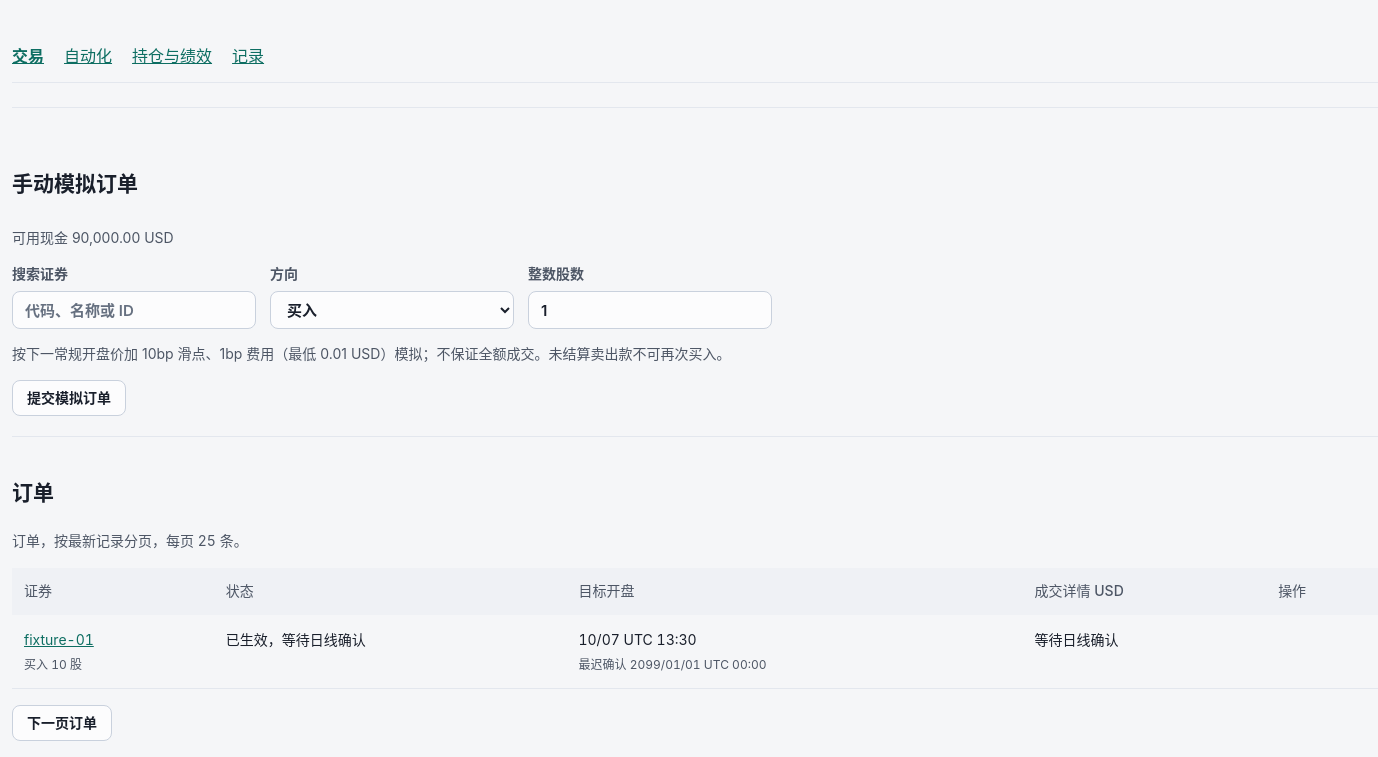
Test: paged tables walk back to the previous page
This screenshot has width=1378, height=757.
(page scrolled)
Check: the link "fixture-01" is shown, box [24,631,94,648]
Click the button "下一页订单". click: click(62, 723)
box: [12,705,112,741]
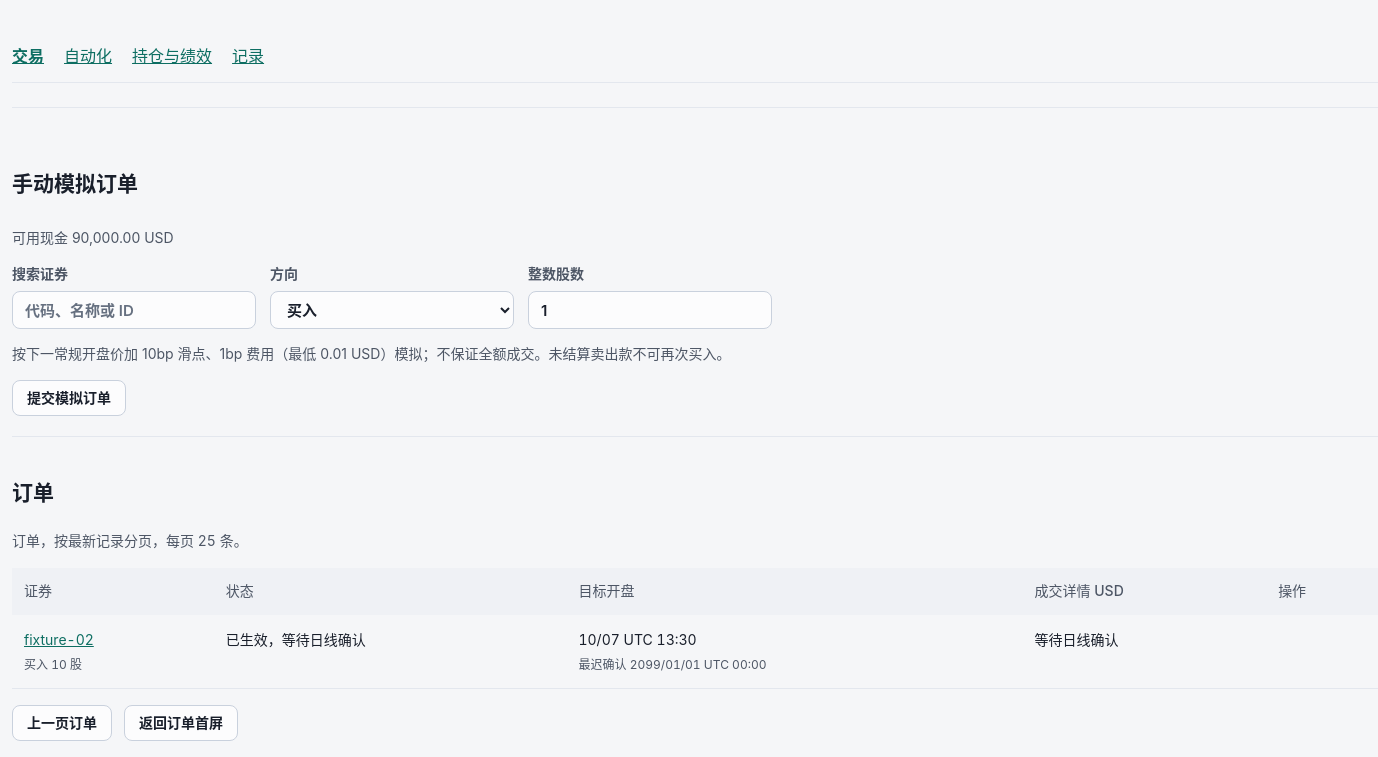
Check: the link "fixture-02" is shown, box [24,631,94,648]
Check: the link "fixture-01" is gone
Click the button "上一页订单". click: click(62, 723)
box: [12,705,112,741]
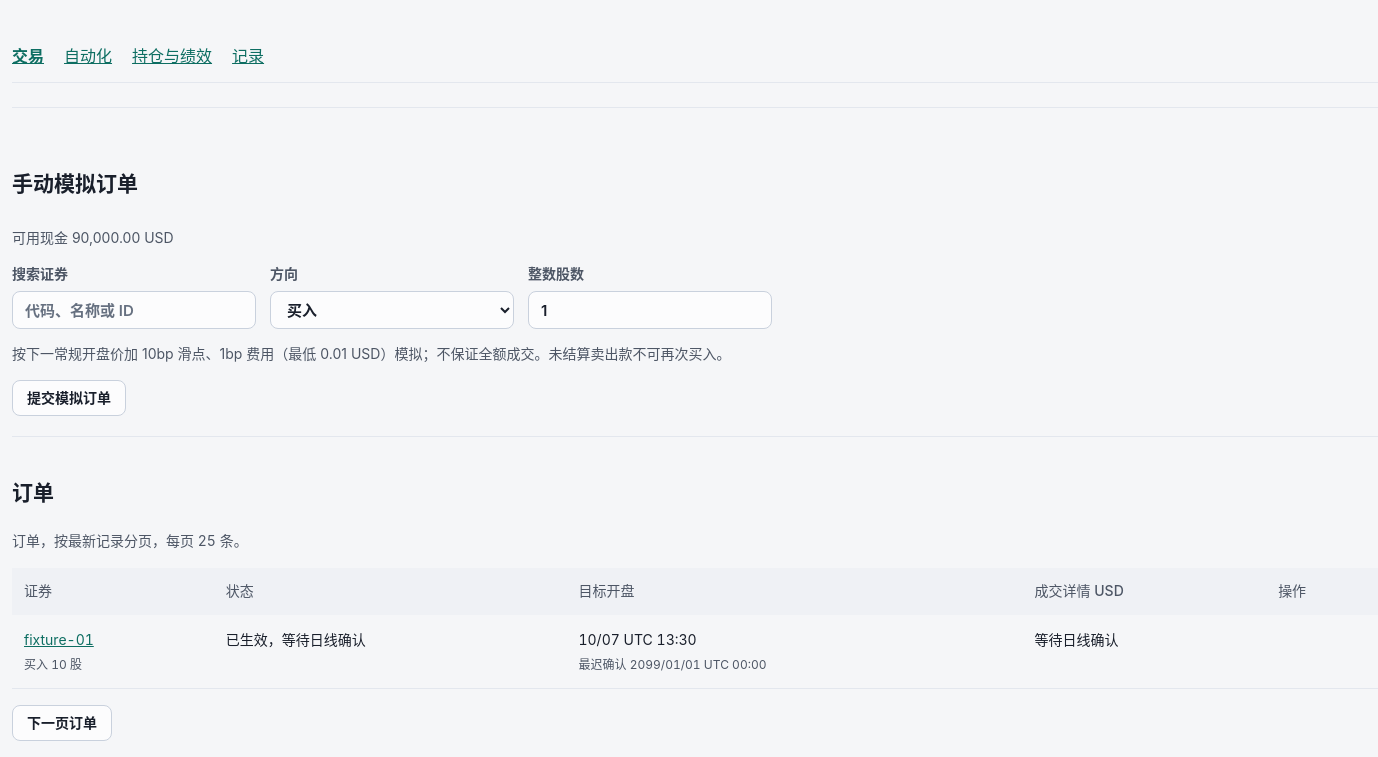
Check: the link "fixture-01" is shown, box [24,631,94,648]
